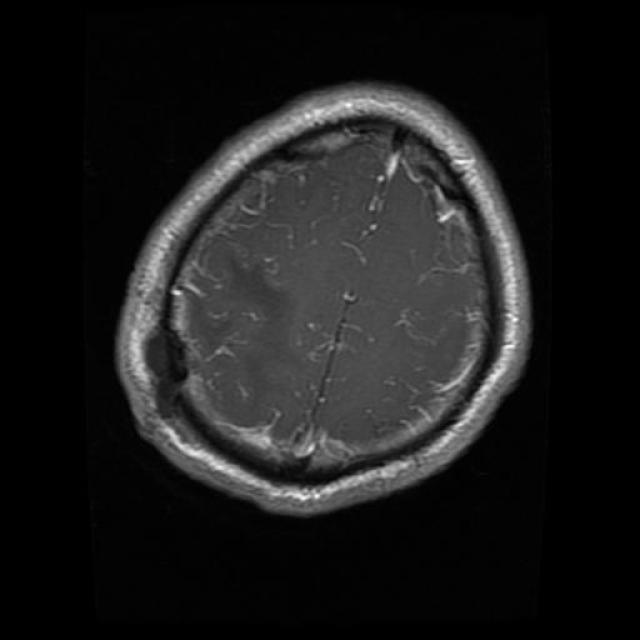glioma: (211, 216, 392, 360)
